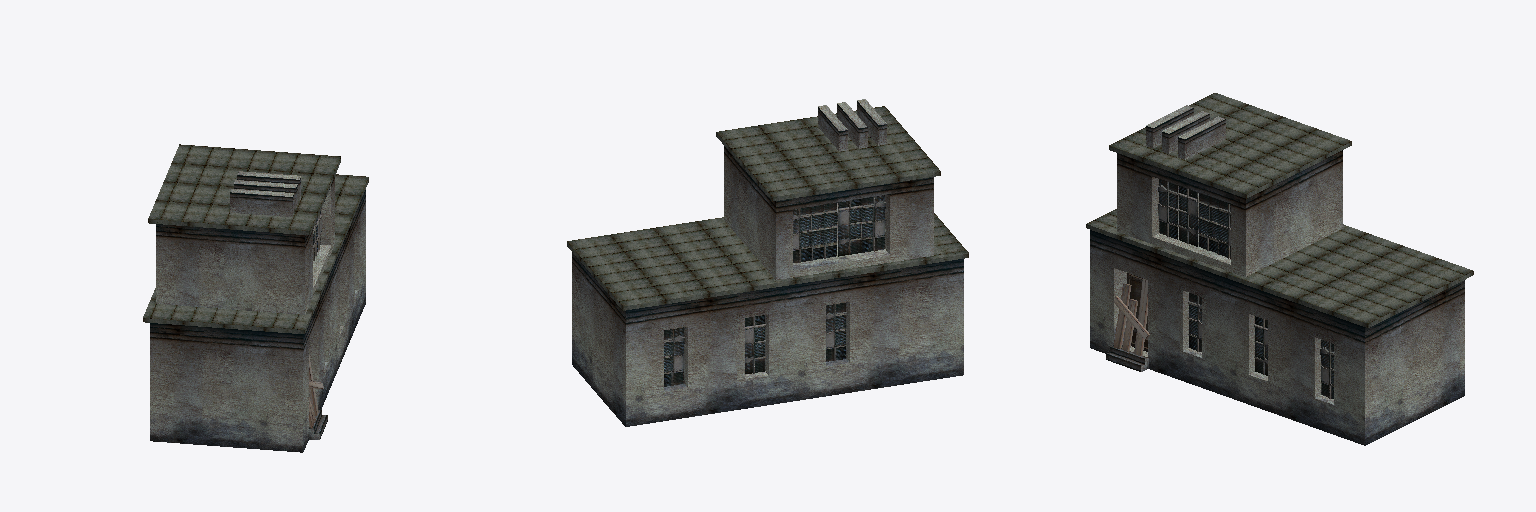
3 views of the same model, side by side, from view 1: azimuth 30°, elevation 25°; view 2: azimuth 150°, elevation 25°; view 3: azimuth 270°, elevation 25° (orthographic).
Size of the model in its own units: 237 by 167 by 254.
Materials: 5 (5 with a texture image).